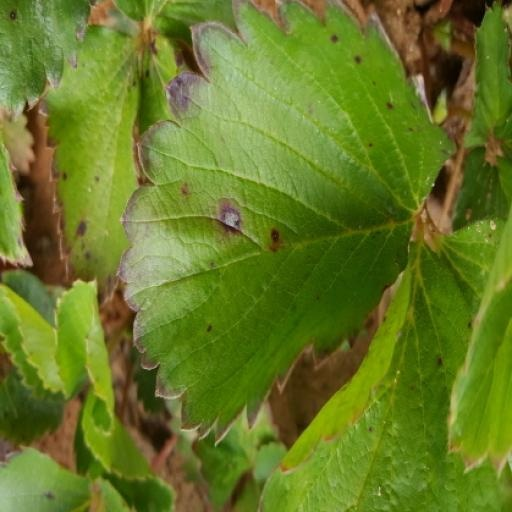Leaf Spot: (115, 64, 459, 511), (257, 0, 511, 274), (43, 200, 145, 486), (0, 389, 94, 511), (135, 373, 193, 480), (0, 243, 35, 381)
